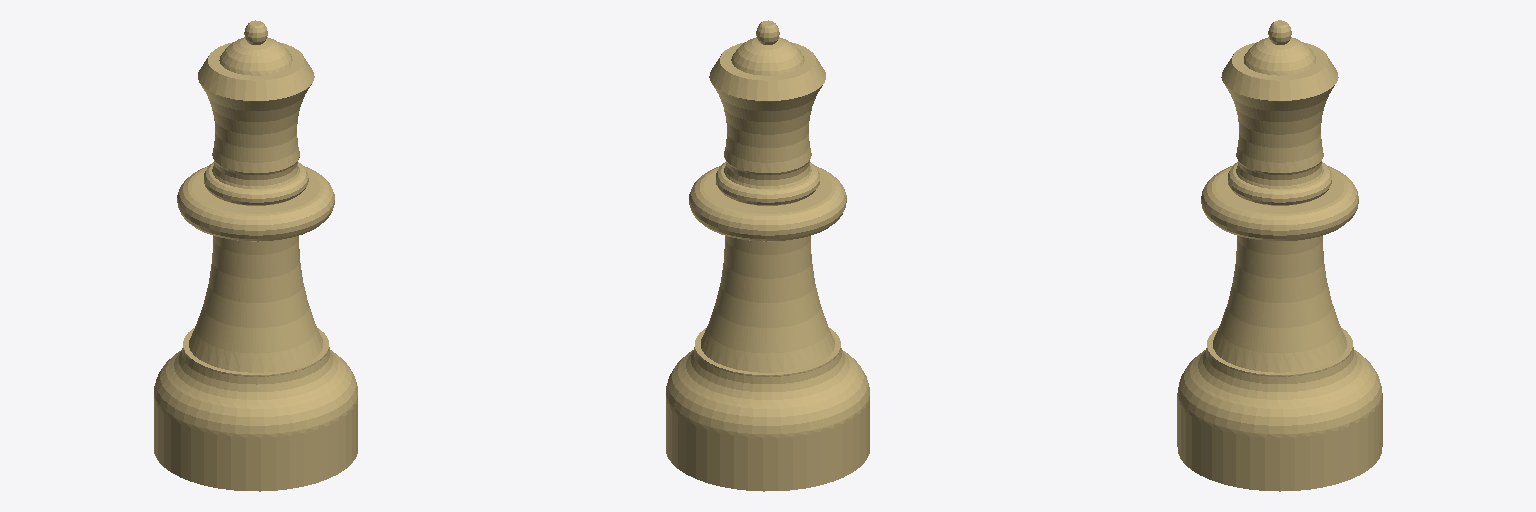
robot.urdf — queen:
<?xml version="1.0" ?>
<robot name="queen">

  <link name="queen__link_0">
    <inertial>
      <mass value="0.002"/>
      <origin rpy="0  0  0" xyz="0  0  0"/>
      <inertia ixx="0.145833" ixy="0" ixz="0" iyy="0.145833" iyz="0" izz="0.125"/>
    </inertial>
    
    <collision name="bishop__collision">
      <origin rpy="1.570795  0  0" xyz="0  0  0"/>
      <geometry>
        <mesh filename="package://chessRobot/models/pieces/queen/whiteQueen.dae" scale="0.01 0.01 0.01"/>
      </geometry>
    <mu1 value="1.0"/>
    <mu2 value="1.0"/>
    <kp  value="10000000.0" />
    <kd  value="1.0" />
    <minDepth>0.002</minDepth>
    <maxVel>0</maxVel>  
    <dynamics damping="0.7" friction="1000" />
    </collision>
    
    <visual name="queen__visual">
      <origin rpy="1.570795  0  0" xyz="0  0  0"/>
      <geometry>
        <mesh filename="package://chessRobot/models/pieces/queen/whiteQueen.dae" scale="0.01 0.01 0.01"/>
      </geometry>
    </visual>
  </link>
</robot>  

--- Render facts (derived) ---
3 views of the same robot in one strip: view 1: azimuth 30°, elevation 25°; view 2: azimuth 150°, elevation 25°; view 3: azimuth 270°, elevation 25° (orthographic).
Robot: queen — 1 links, 0 joints (none); root link queen__link_0; default pose: every joint at zero.
Links seen in each view (by area): view 1: queen__link_0; view 2: queen__link_0; view 3: queen__link_0.
Boxes of the visible links, left/top/right/bottom form: queen__link_0: left=154, top=20, right=357, bottom=491; queen__link_0: left=666, top=20, right=869, bottom=491; queen__link_0: left=1177, top=20, right=1382, bottom=491.
Bounding box of the posed robot: 0.035 × 0.035 × 0.08 m (x, y, z).
1 mesh visuals loaded from 1 distinct referenced files (1 Collada DAE).